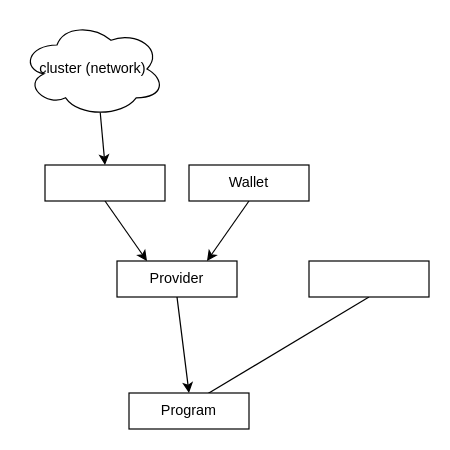
This 450x450 diagram has some shape labels left out. Each missing label, with the centre of its shape:
Connection: (x=104, y=182)
IDL config: (x=368, y=278)
